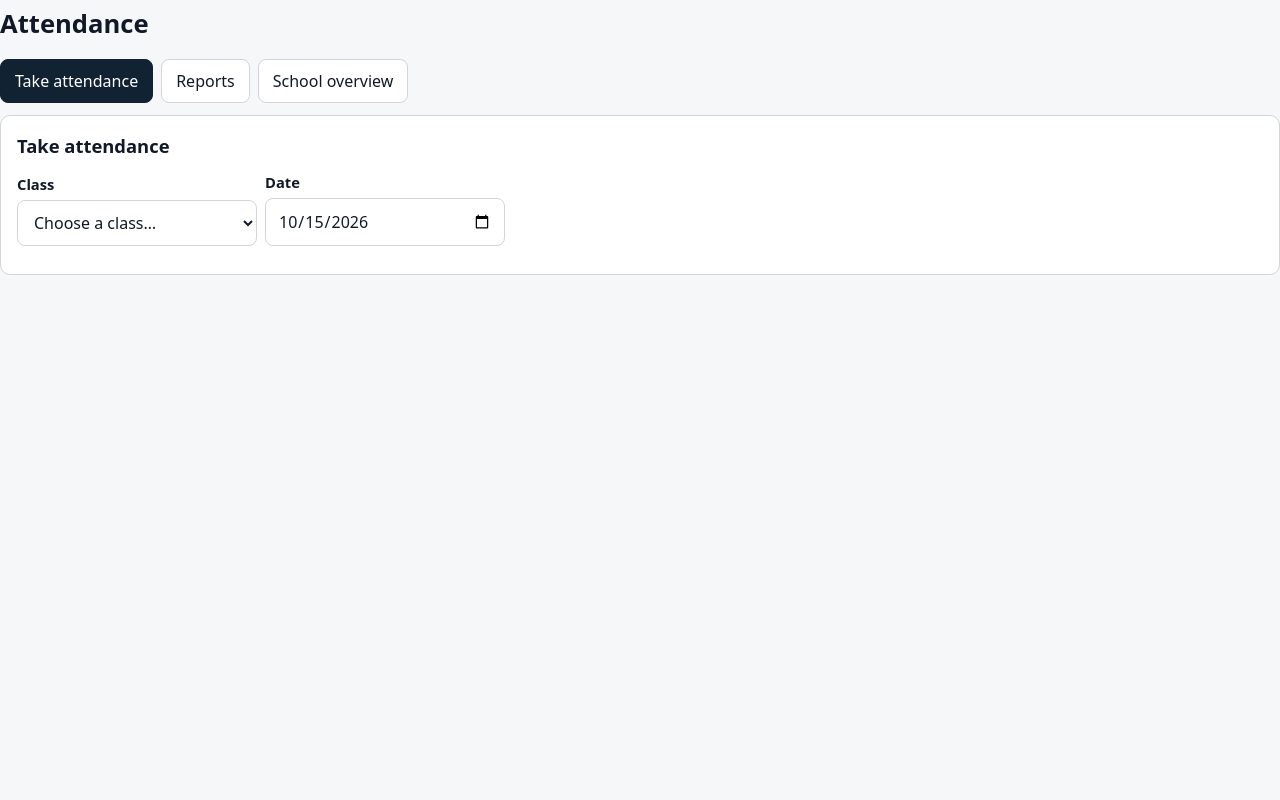
Test case: Attendance reports › the school policy changes the numbers (late/excused settings)
Click the button "Reports".
click(205, 81)  # box [161,59,250,103]
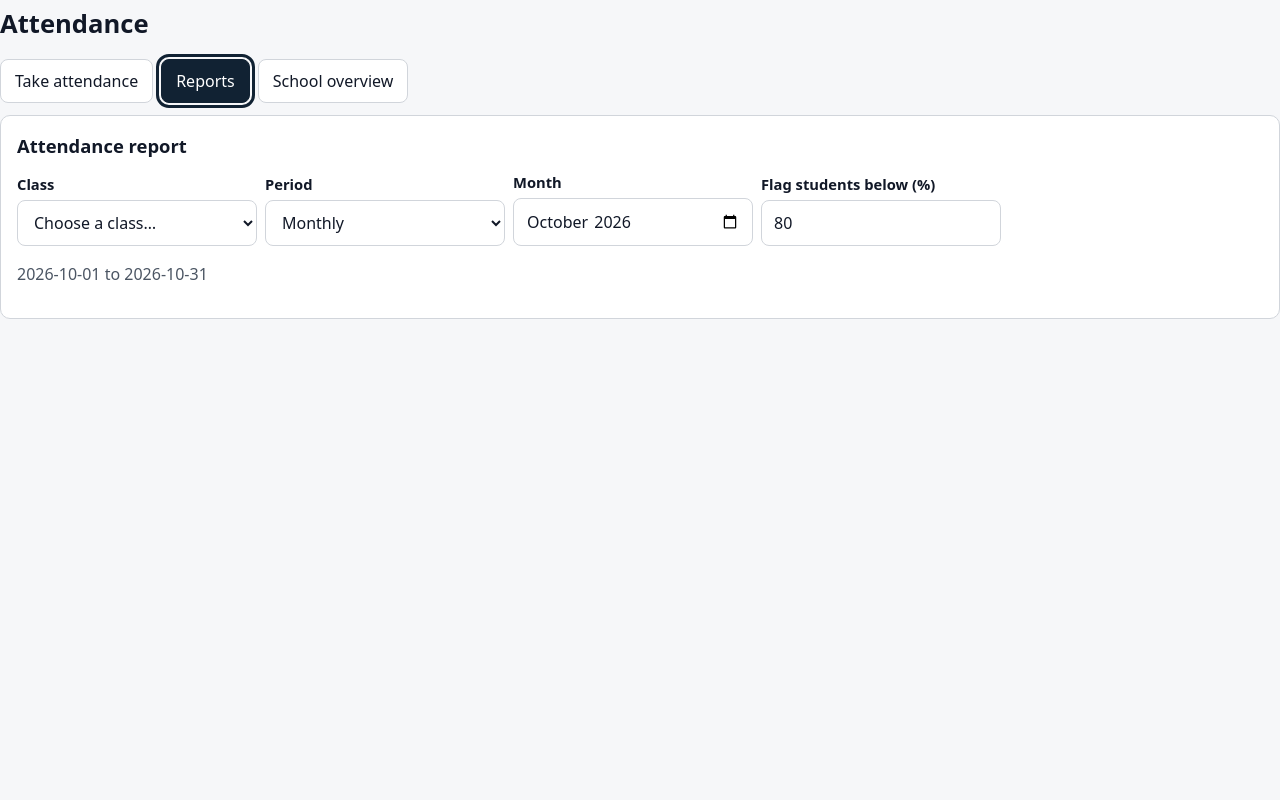
Select "JSS 1" in the dropdown labelled "Class" at [137, 222], box [17,200,257,246]
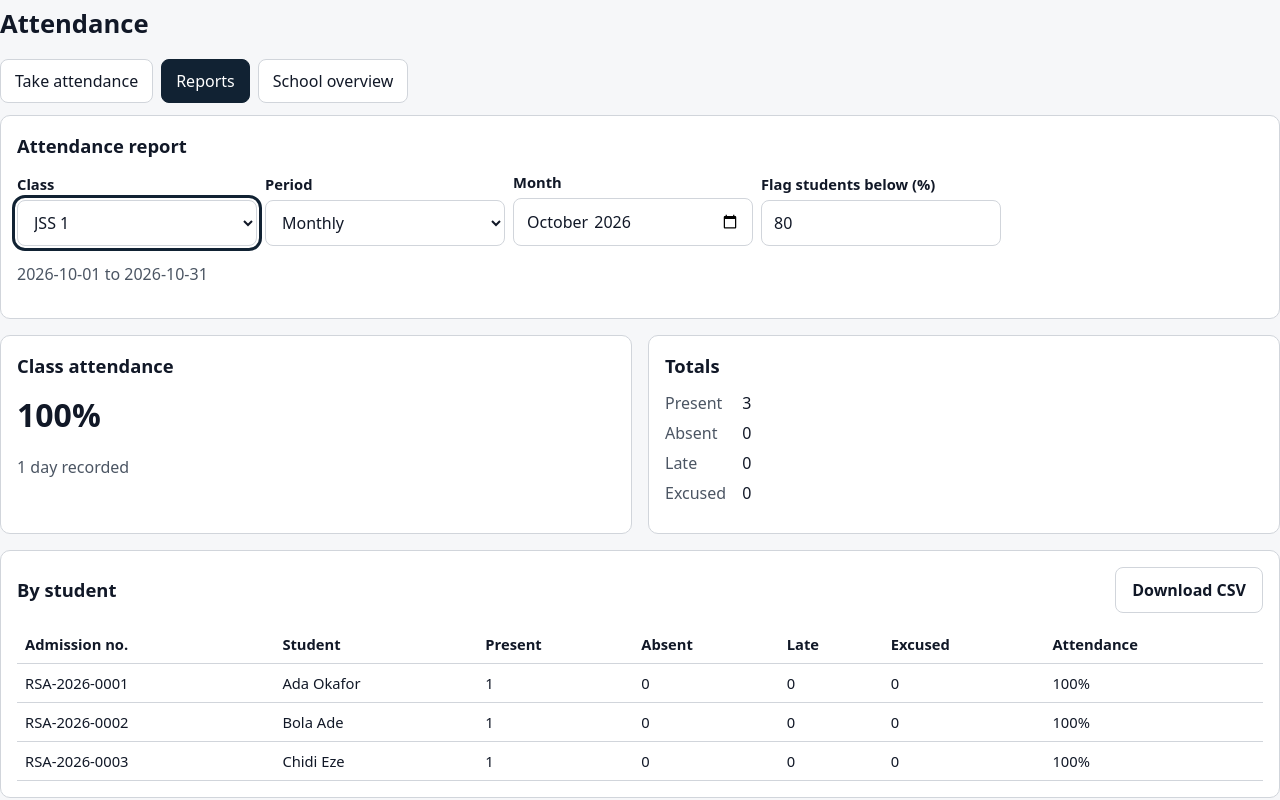
Replace the text in the field labelled "Month" with "2026-09" at [633, 222], box [513,198,753,246]
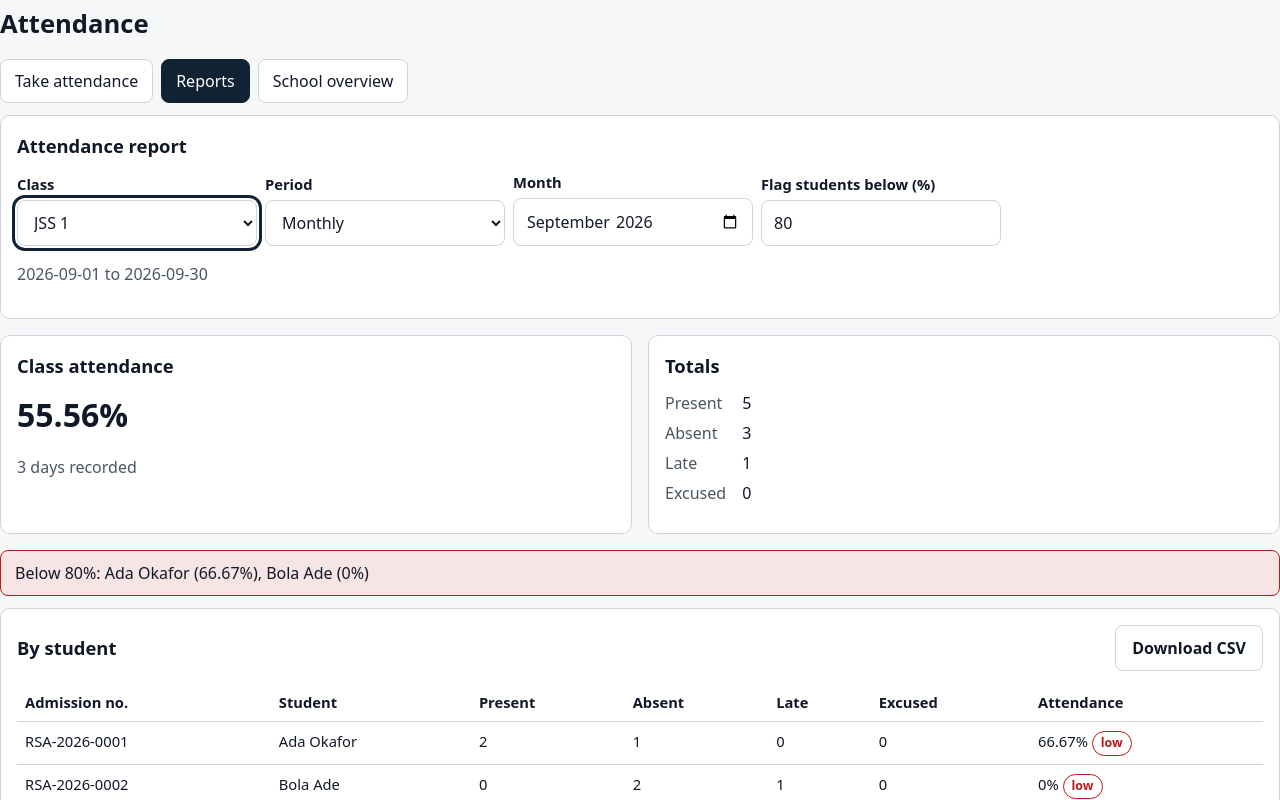
Expected: the text "3 days recorded" is shown, [17,456,137,478]
Expected: the text "55.56%" is shown, [17,393,128,436]
